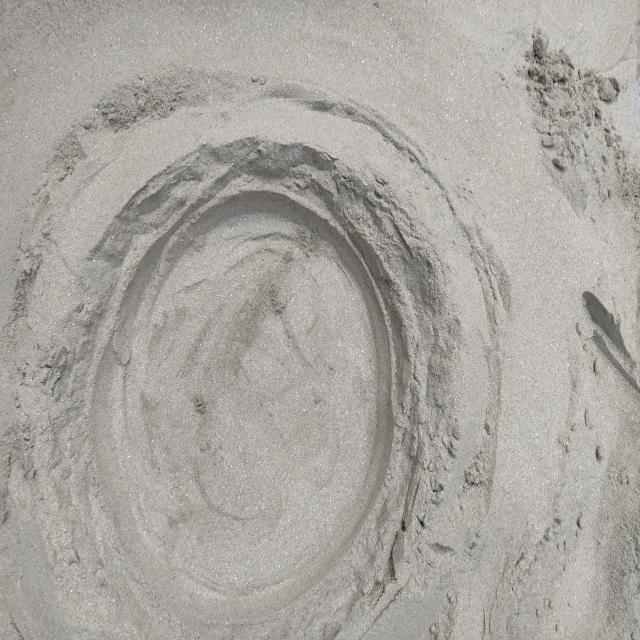C40: (5, 87, 505, 637)
